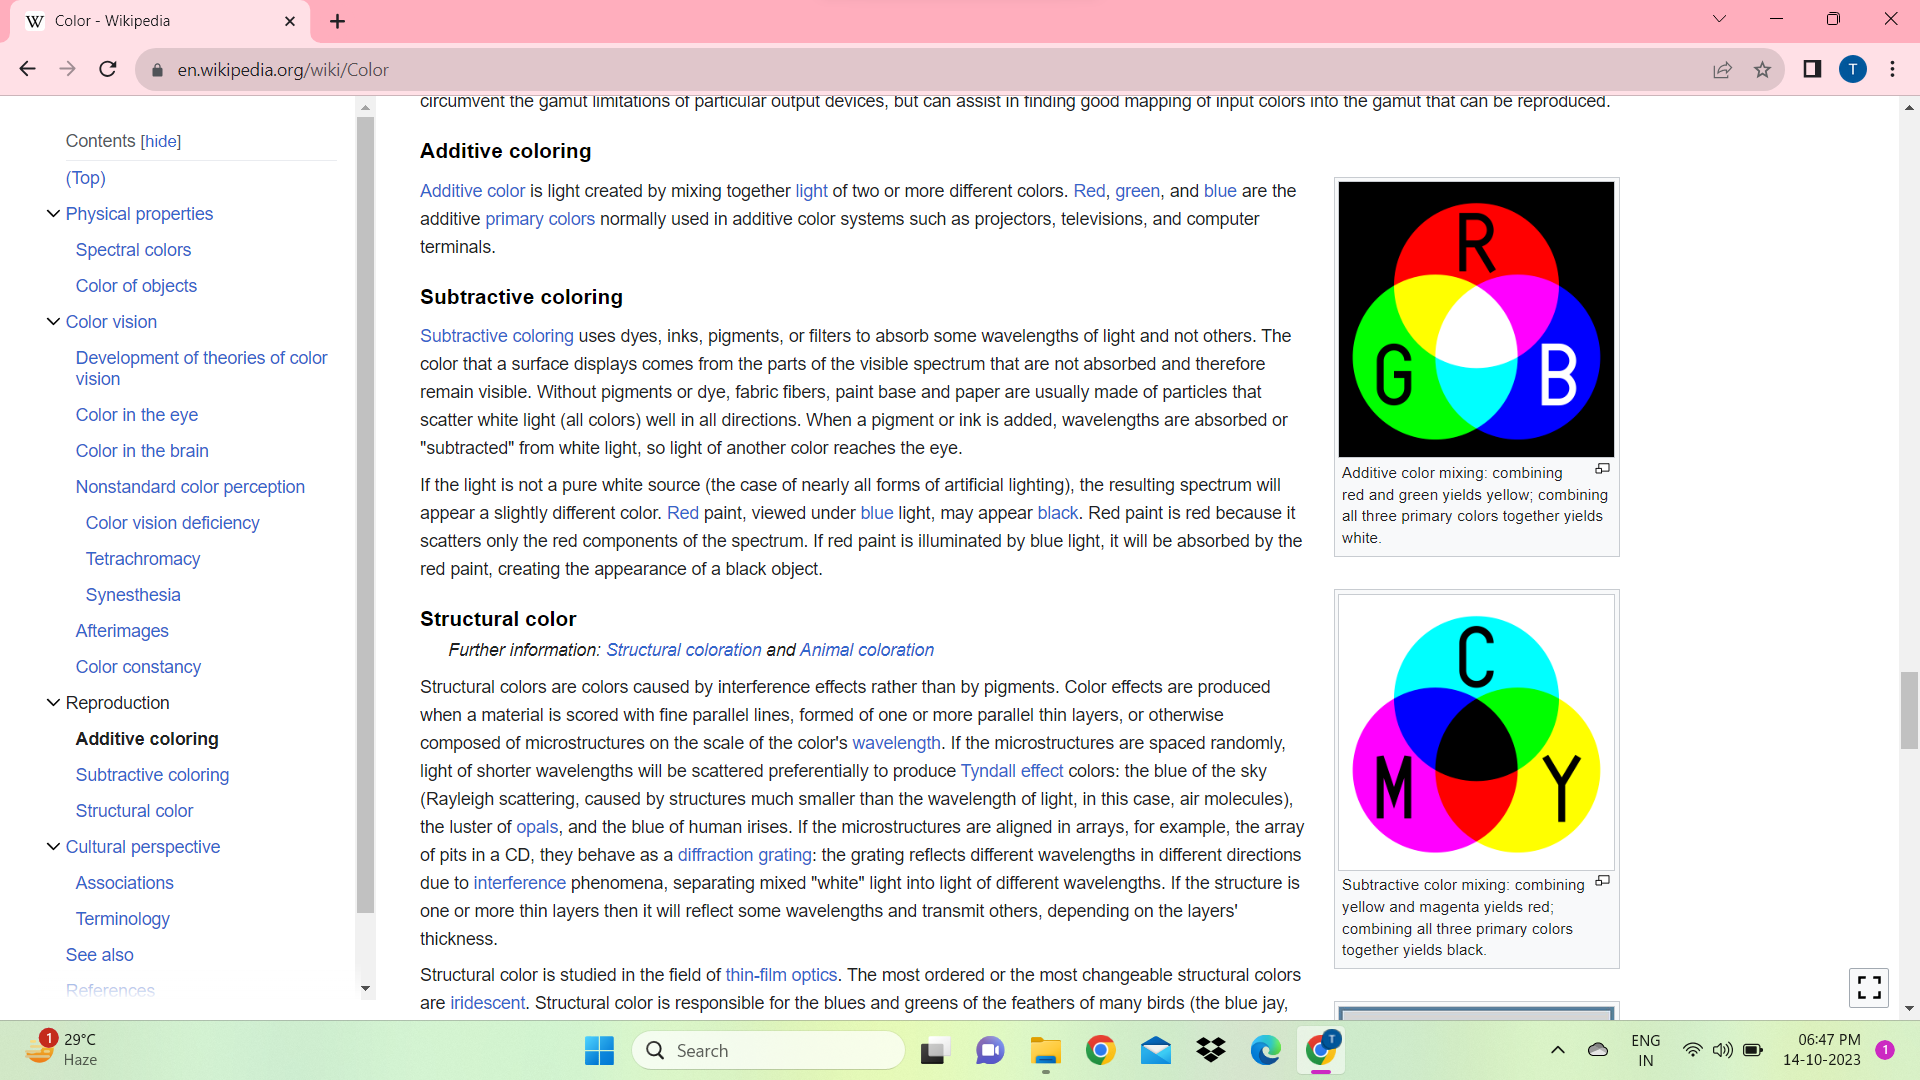Image: (1333, 169, 1622, 462), (1333, 580, 1621, 869)
Paragraph: (384, 671, 1313, 953), (414, 322, 1319, 465), (411, 472, 1329, 591), (411, 179, 1324, 264), (411, 967, 1307, 1014), (1333, 868, 1607, 977), (1336, 465, 1629, 553), (438, 634, 943, 662), (65, 345, 343, 388), (411, 274, 630, 315), (61, 475, 316, 498), (406, 138, 604, 169), (61, 645, 211, 682), (65, 435, 220, 471), (404, 591, 584, 621), (67, 725, 244, 756), (62, 791, 210, 827), (61, 831, 224, 858), (75, 512, 264, 535), (65, 608, 177, 645), (62, 203, 218, 228), (67, 235, 200, 264), (50, 128, 211, 152), (67, 766, 240, 787), (67, 404, 216, 427), (86, 546, 210, 574), (50, 902, 187, 926), (65, 691, 179, 719), (61, 868, 187, 893), (75, 583, 194, 607), (71, 274, 211, 293), (65, 309, 169, 330), (50, 940, 145, 963), (61, 162, 125, 193)
